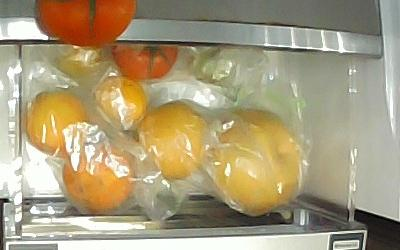peach_vinyl: (61, 140, 133, 209), (23, 87, 87, 153)
pear_vinyl: (206, 106, 303, 208), (134, 99, 205, 180)
tangerine_vinyl: (92, 74, 147, 125), (56, 45, 105, 79)
tomato_vinyl: (109, 42, 178, 79), (189, 48, 236, 85)
